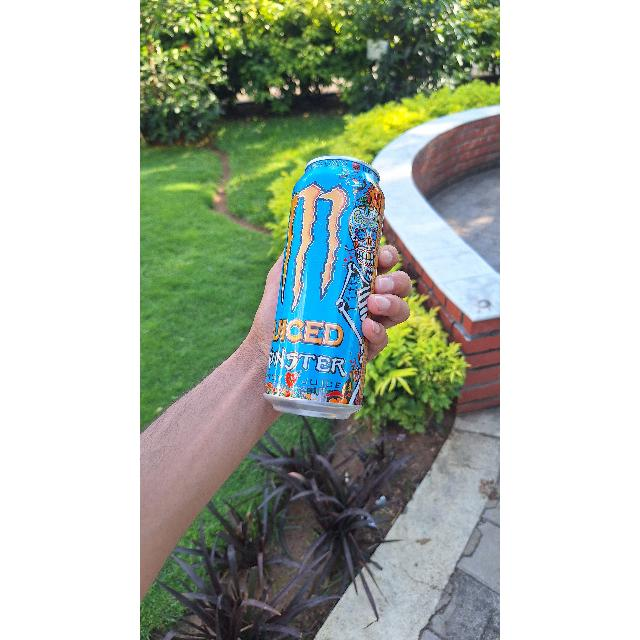Monster Mango Loco: (264, 155, 396, 419)
